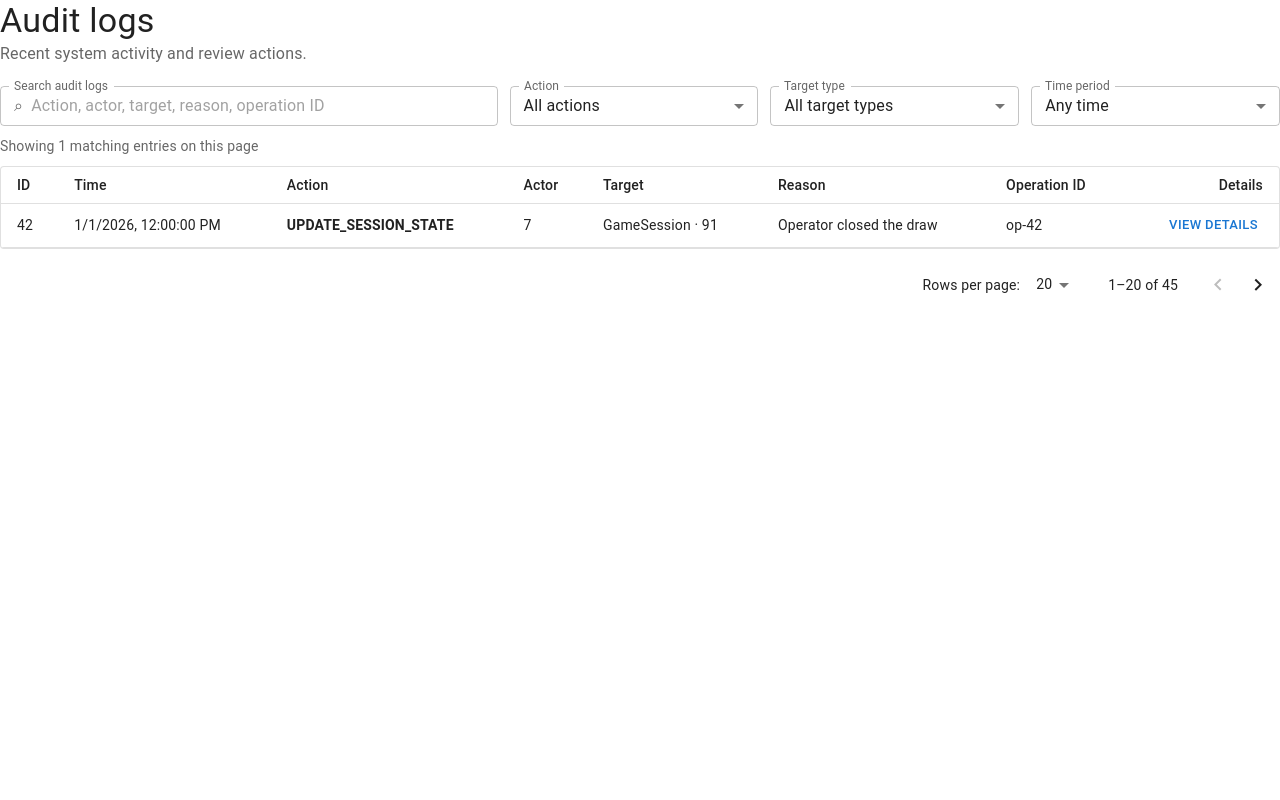
Test: AuditLogsPage › shows captured request, argument, and result context in the details dialog
Click the button "View details": [1214, 225] box [1164, 210, 1263, 241]
(page scrolled)
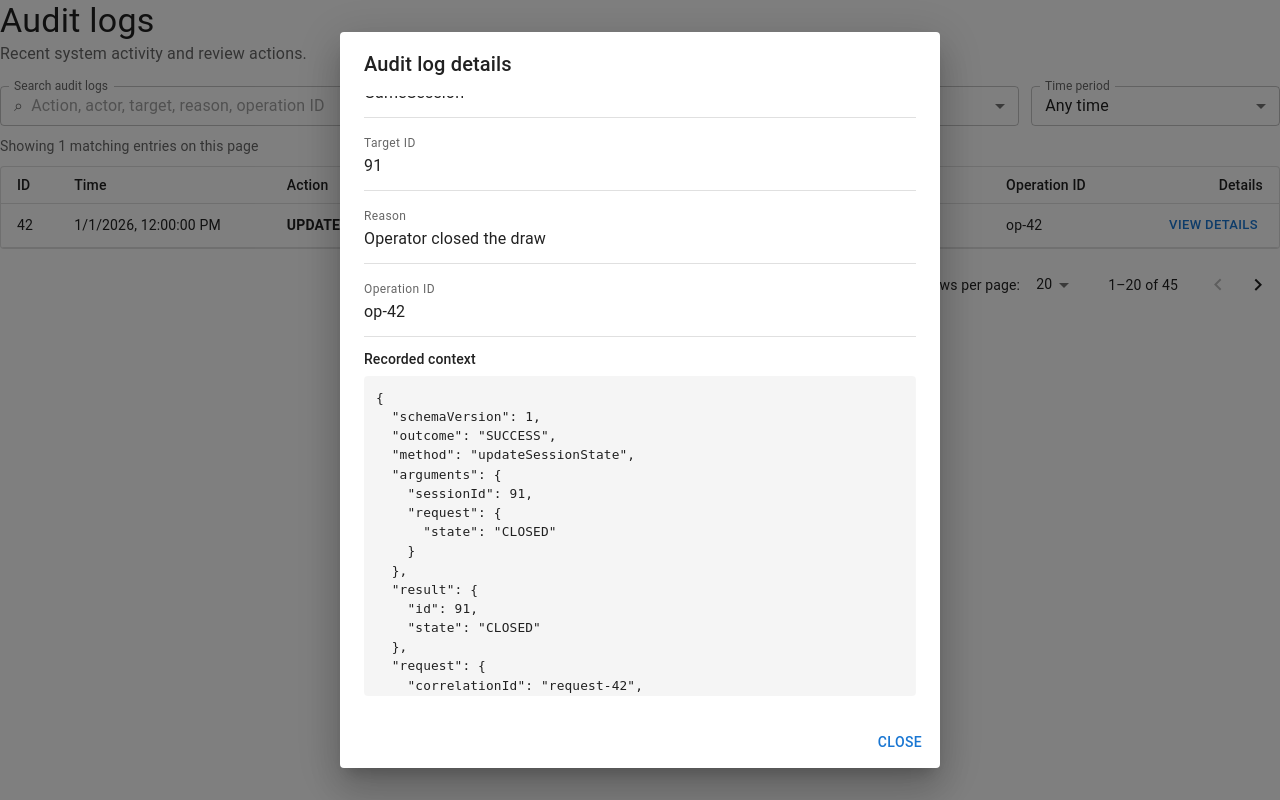
Now the heading "Recorded context" is shown, box [364, 351, 476, 367]
Now the text "\"state\": \"CLOSED\"" is shown, box [376, 390, 730, 716]
